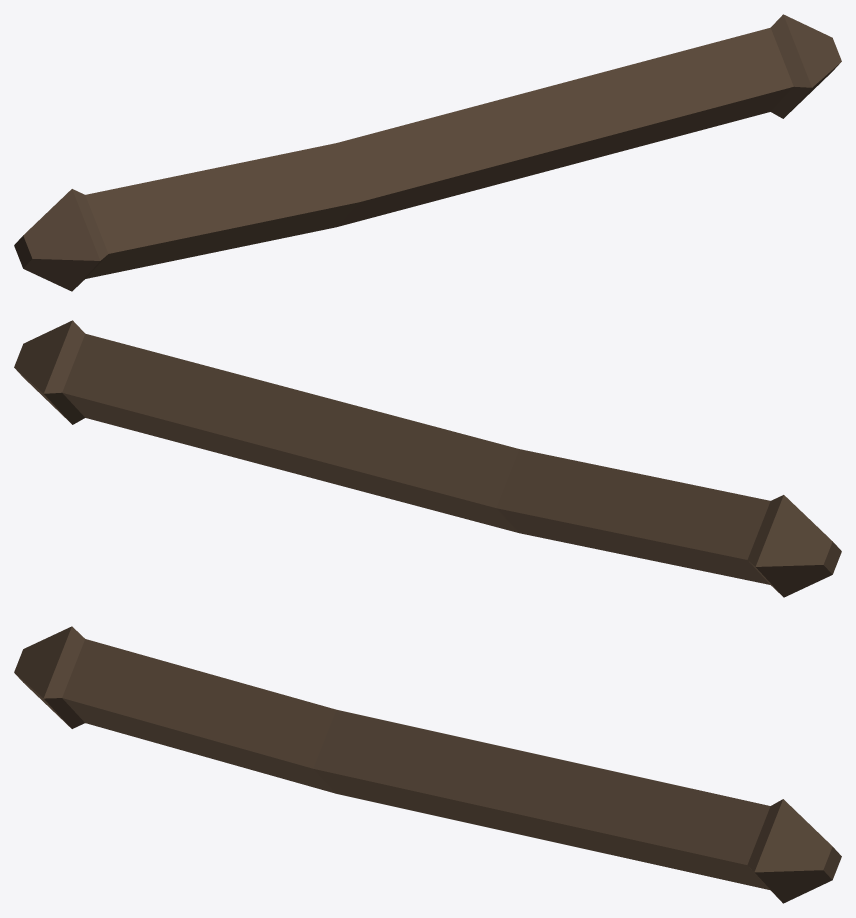
Rendered from Banner_Holder.fbx.
3 renders of one model, top to bottom at view 1: azimuth 30°, elevation 25°; view 2: azimuth 150°, elevation 25°; view 3: azimuth 330°, elevation 25°, orthographic.
Parts seen in each view (by area): view 1: Banner_Holder; view 2: Banner_Holder; view 3: Banner_Holder.
Boxes of the visible parts, left/top/right/bottom form: Banner_Holder: left=14, top=14, right=841, bottom=291; Banner_Holder: left=14, top=320, right=841, bottom=597; Banner_Holder: left=14, top=626, right=841, bottom=903.
Size of the model in its own units: 211 by 26.09 by 26.09.
